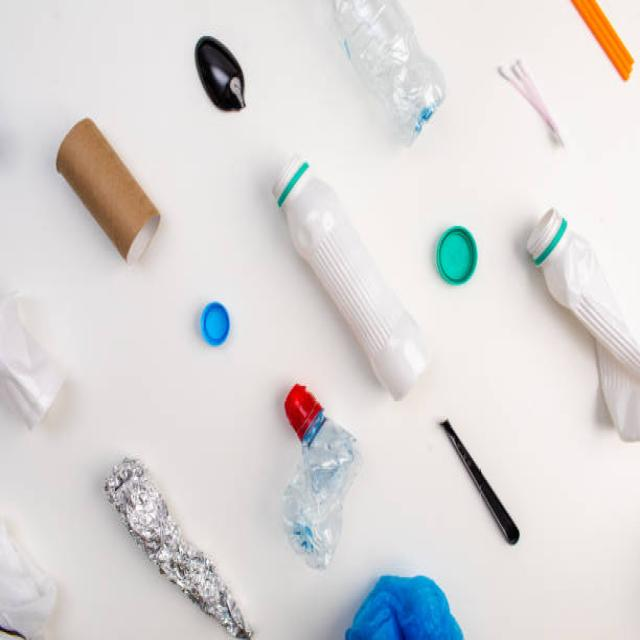cardboard: (54, 99, 170, 273)
